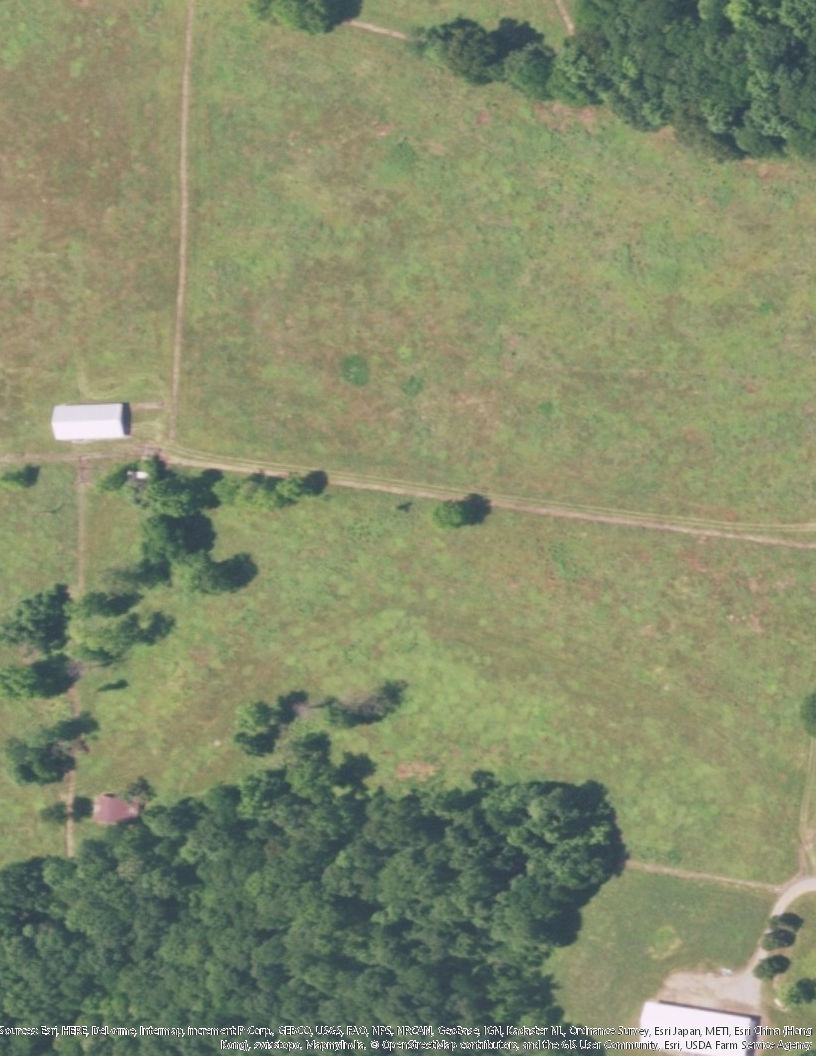cafo: (626, 994, 771, 1056), (49, 398, 137, 440)
